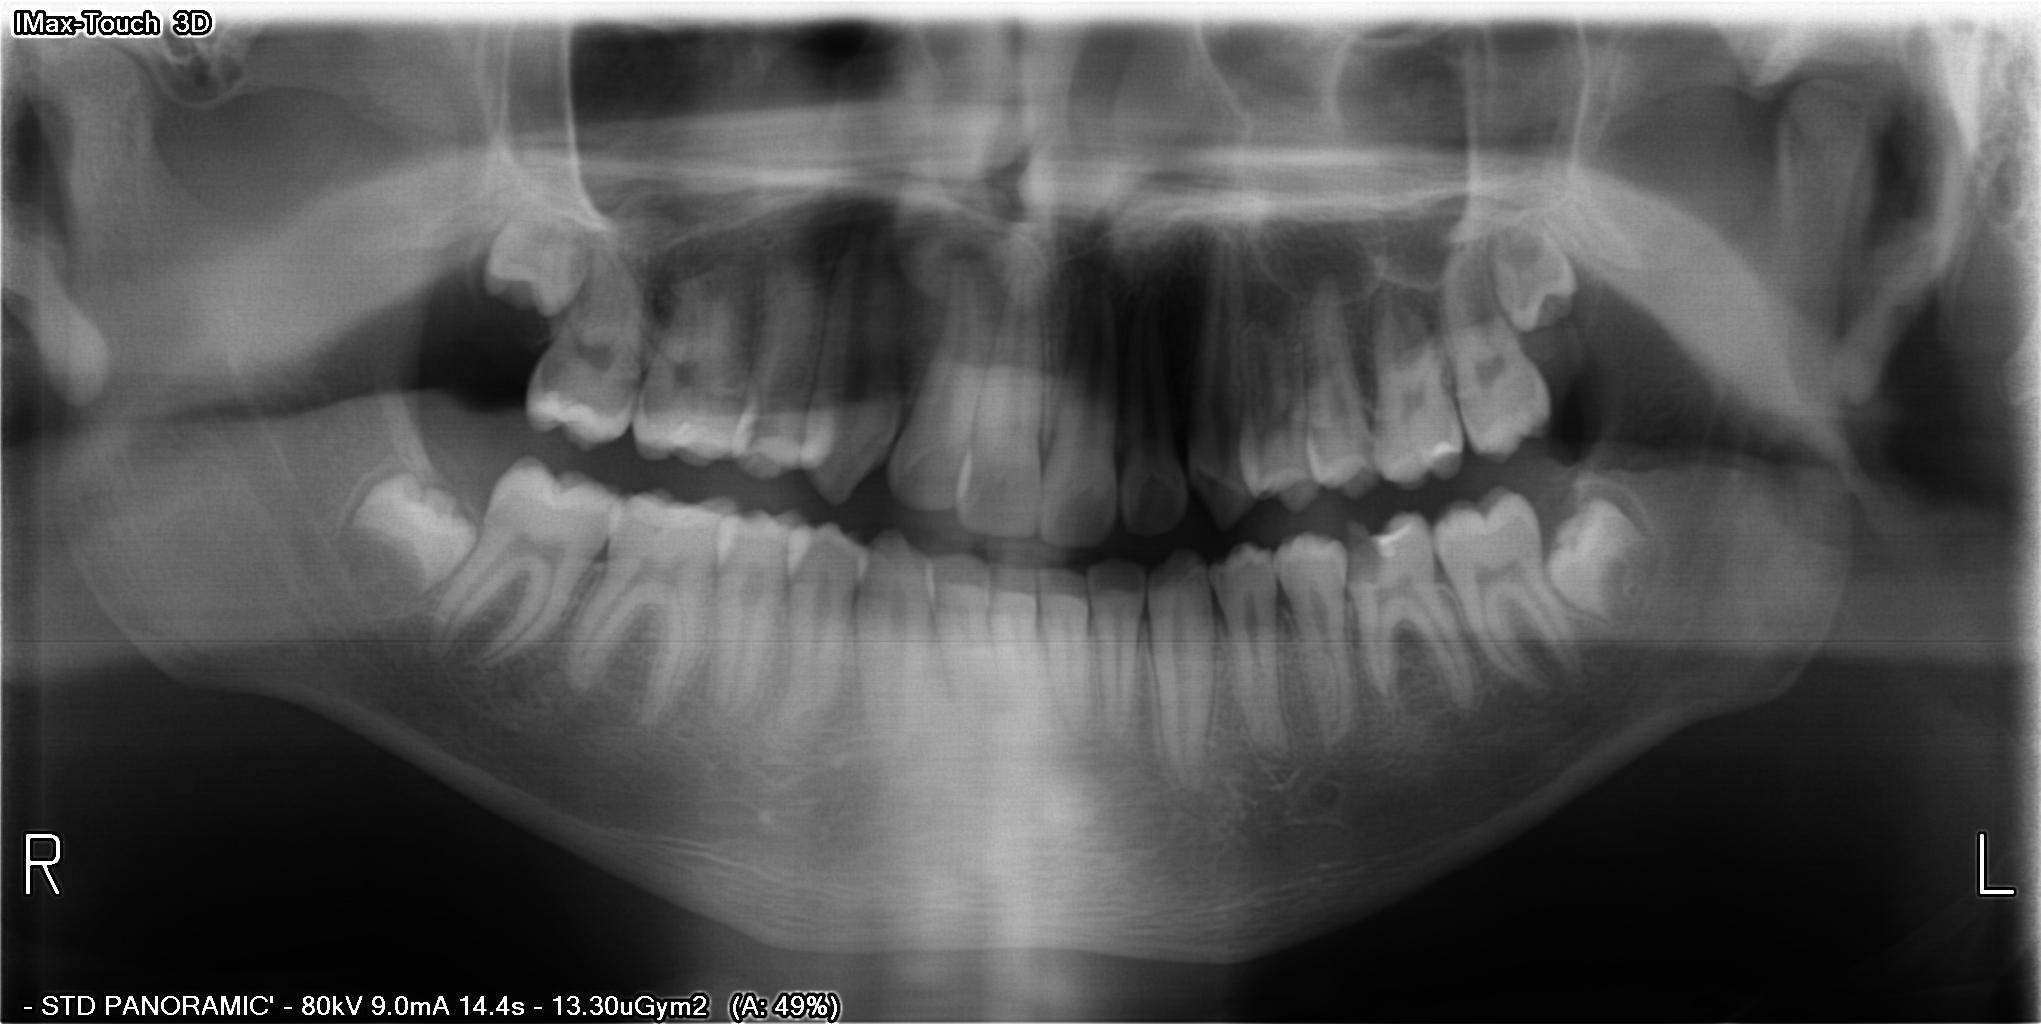Çürük Bölgesi: (1341, 528, 1389, 590)
